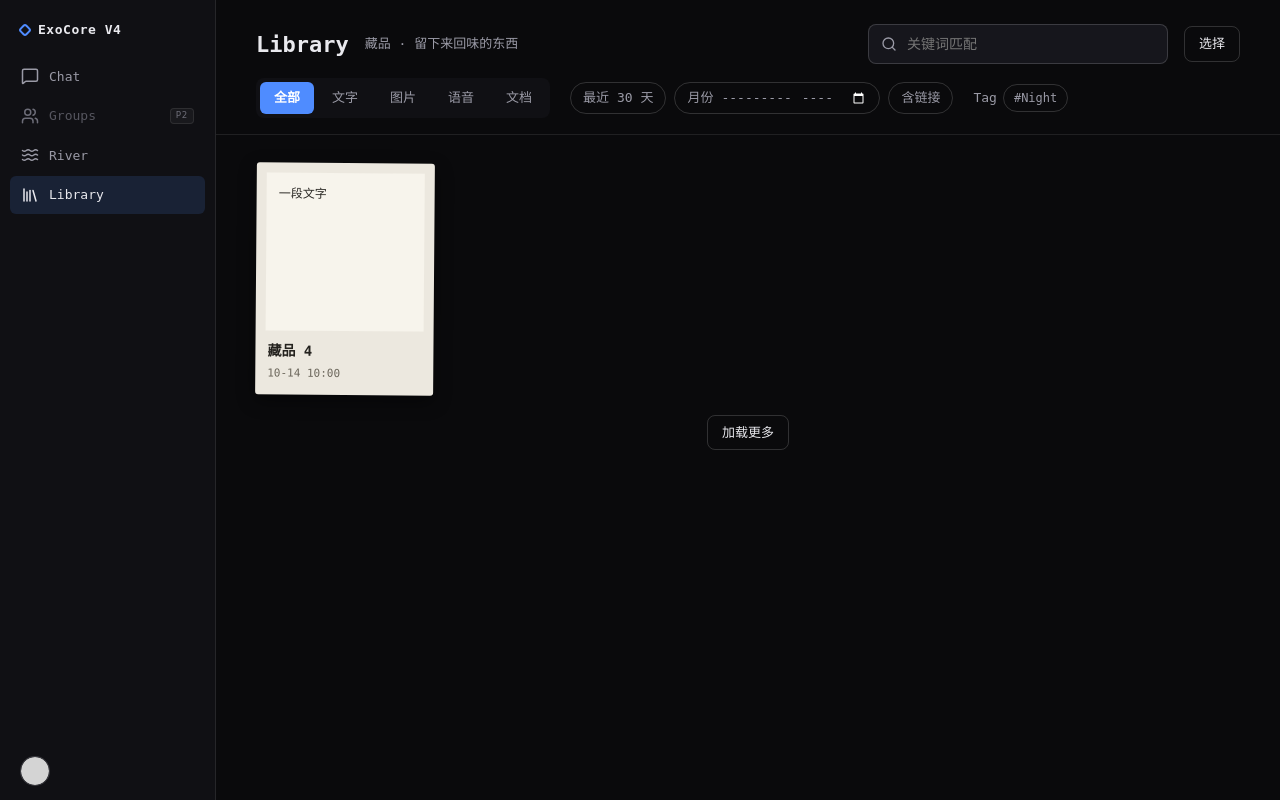
Library wall traversal and states (UI-A2 / UI-B1) › restarts from page one on malformed_cursor and says the list refreshed
This screenshot has width=1280, height=800.
Check: the link "藏品 4" is shown, box x1=267 y1=342 x2=312 y2=358
Click the button "加载更多".
click(748, 432)  # box x1=707 y1=415 x2=789 y2=450
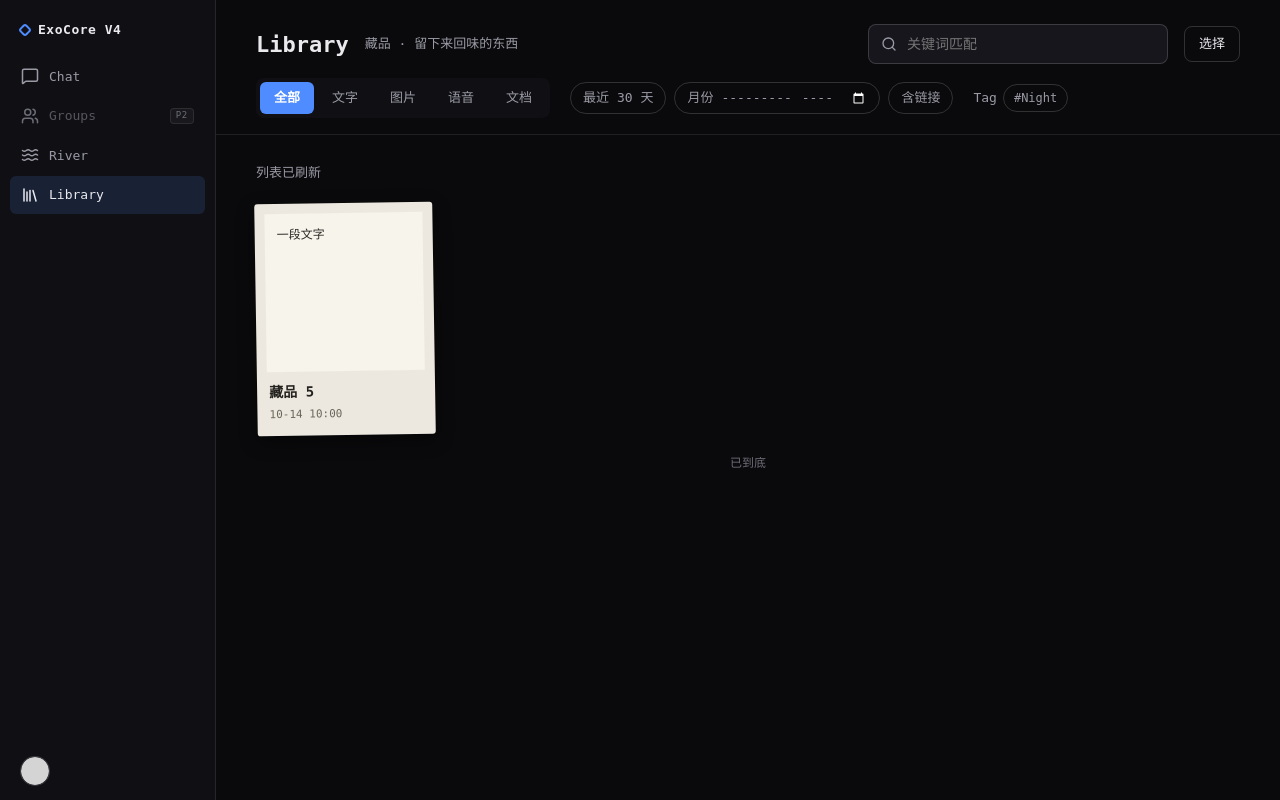
Check: the link "藏品 5" is shown, box x1=269 y1=383 x2=314 y2=399
Check: the message reads "列表已刷新", box x1=256 y1=165 x2=321 y2=180
Check: the link "藏品 4" is gone
